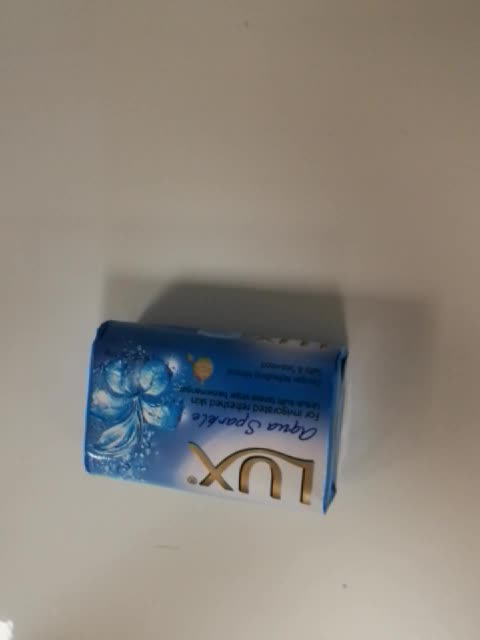soap: (83, 318, 350, 518)
